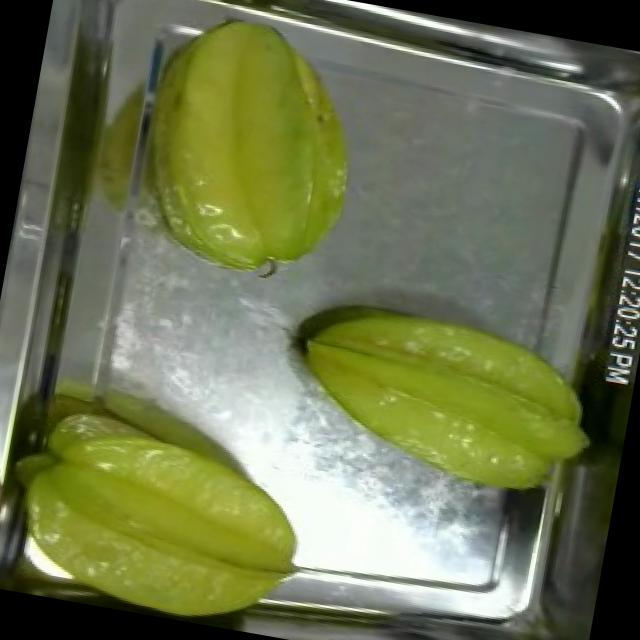fruit: (104, 0, 388, 303), (0, 388, 324, 639), (270, 276, 612, 512)
